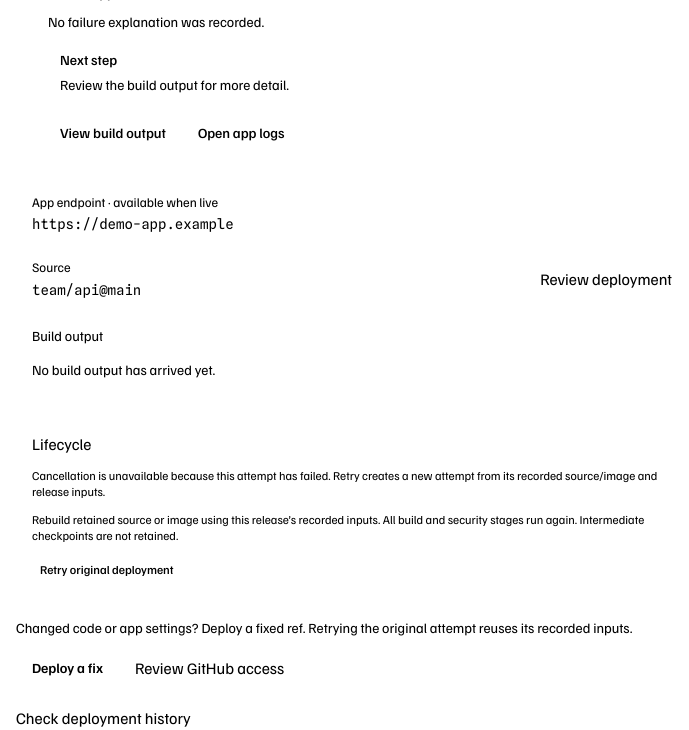
Test: NewAppWizard Git submission › does not resubmit after an ambiguous fixed-ref response
(page scrolled)
Step 1. Click the button "Deploy a fix" → {"x": 67, "y": 668}, box [16,650,119,686]
(page scrolled)
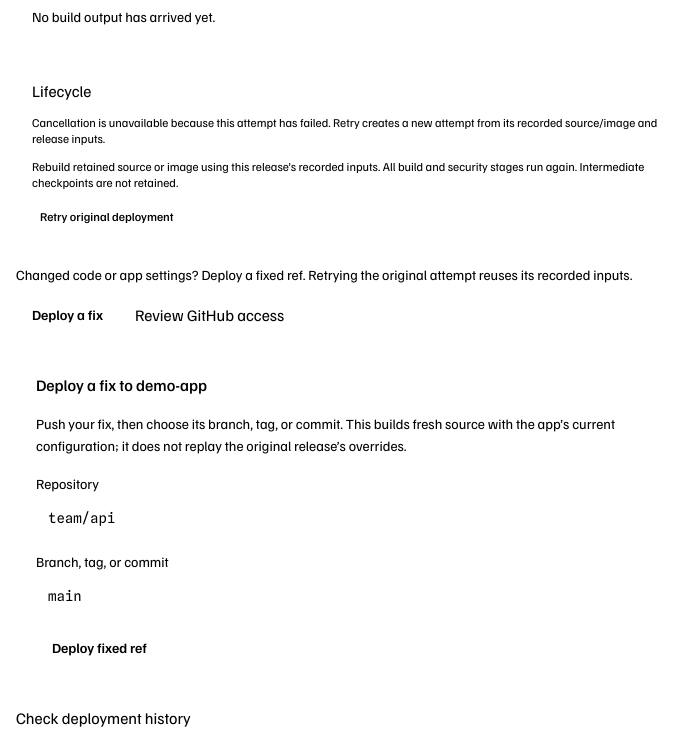
Step 2. Click the button "Deploy fixed ref" → {"x": 99, "y": 648}, box [36,630,163,666]
(page scrolled)
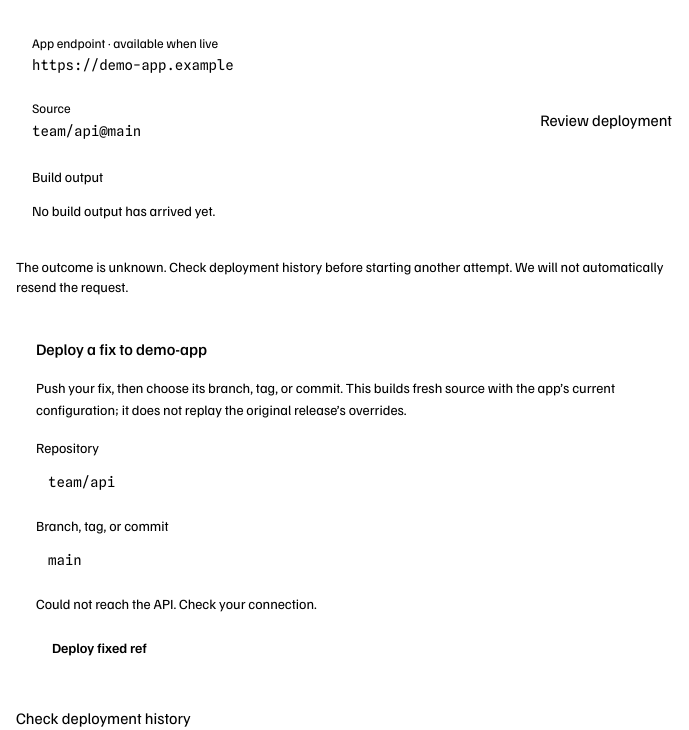
Check: the text "outcome is unknown" is shown, box [16,258,663,294]
Check: the button "Retry original deployment" is gone
